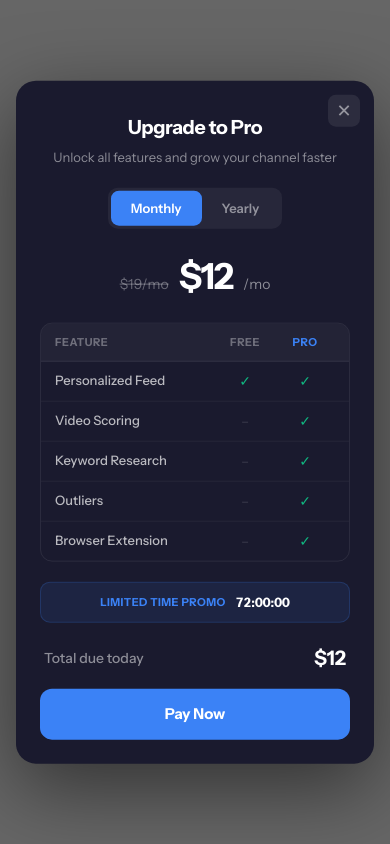
UpgradePopupModal › Monthly / Yearly toggle › toggles back to Monthly correctly
Click the button "Yearly" at x=240, y=208, box [202,190,279,226]
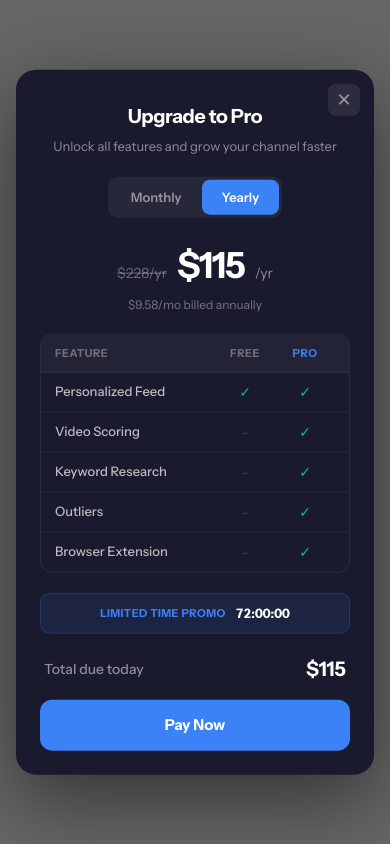
Click the button "Monthly" at x=156, y=197, box [111,179,202,215]
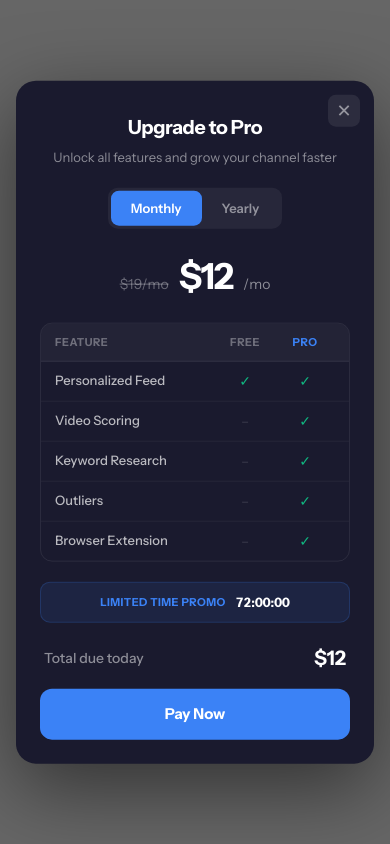
Result: the text "billed annually" is gone
